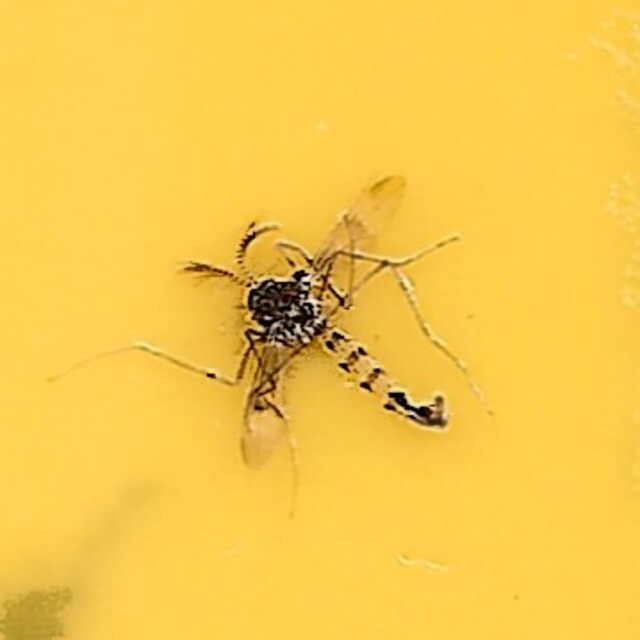Nematocera: (178, 173, 462, 467)
